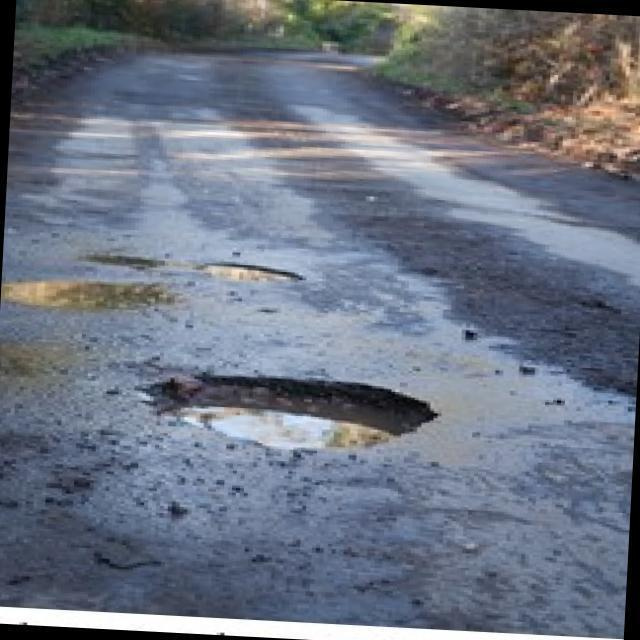pothole: (144, 367, 444, 460), (196, 258, 308, 288)
